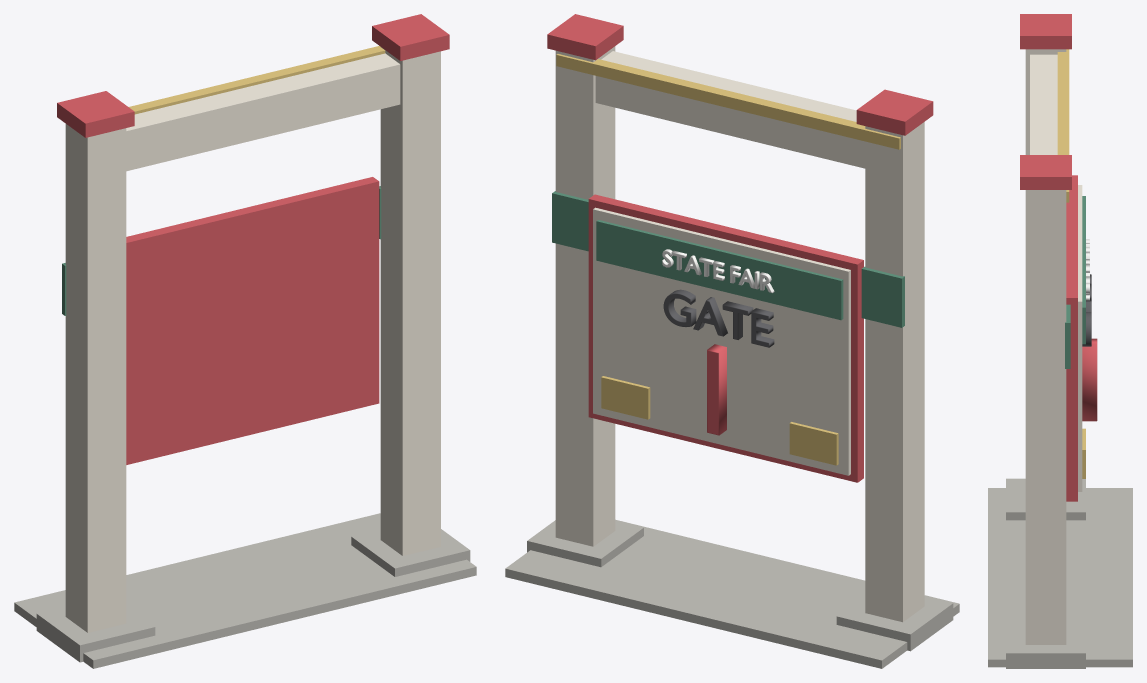
The model's file is state-fair-gate-01.glb.
3 renders of one model, left to right at view 1: azimuth 30°, elevation 25°; view 2: azimuth 150°, elevation 25°; view 3: azimuth 270°, elevation 25°, orthographic. The views are drawn at different scales.
Parts seen in each view (by area): view 1: SFG_SignBack, SFG_PostL, SFG_PostR, SFG_Pad, SFG_HeaderBeam, SFG_FootingL, SFG_FootingR, SFG_PostCapL, SFG_PostCapR, SFG_HeaderAccent; view 2: SFG_SignFace, SFG_PostL, SFG_Pad, SFG_PostR, SFG_HeaderBeam, SFG_Ribbon, SFG_SignBack, SFG_HeaderAccent, SFG_FootingL, SFG_GateLabel, SFG_FootingR, SFG_PostCapL (+7 smaller); view 3: SFG_PostR, SFG_Pad, SFG_SignBack, SFG_FootingR, SFG_HeaderBeam, SFG_PostCapL, SFG_PostCapR, SFG_SignFace, SFG_HeaderAccent, SFG_FootingL, SFG_GateNumber, SFG_PostL (+4 smaller).
Boxes of the visible parts, x1,y1,x2,y2 form: SFG_SignBack: [126, 177, 379, 464]; SFG_PostL: [65, 124, 126, 632]; SFG_PostR: [380, 47, 440, 555]; SFG_Pad: [14, 513, 476, 668]; SFG_HeaderBeam: [126, 53, 400, 171]; SFG_FootingL: [36, 606, 155, 662]; SFG_FootingR: [351, 529, 470, 576]; SFG_PostCapL: [57, 91, 134, 137]; SFG_PostCapR: [372, 14, 449, 60]; SFG_HeaderAccent: [129, 46, 385, 114]; SFG_SignFace: [593, 207, 850, 475]; SFG_PostL: [865, 122, 924, 622]; SFG_Pad: [505, 519, 959, 668]; SFG_PostR: [555, 46, 615, 546]; SFG_HeaderBeam: [595, 51, 865, 168]; SFG_Ribbon: [596, 220, 843, 320]; SFG_SignBack: [588, 194, 863, 482]; SFG_HeaderAccent: [556, 54, 900, 149]; SFG_FootingL: [836, 596, 953, 651]; SFG_GateLabel: [663, 289, 774, 347]; SFG_FootingR: [527, 520, 643, 567]; SFG_PostCapL: [856, 89, 933, 135]; SFG_PostR: [1025, 190, 1066, 644]; SFG_Pad: [988, 488, 1132, 667]; SFG_SignBack: [1066, 175, 1077, 501]; SFG_FootingR: [1006, 619, 1085, 668]; SFG_HeaderBeam: [1030, 54, 1057, 154]; SFG_PostCapL: [1020, 14, 1071, 49]; SFG_PostCapR: [1020, 155, 1071, 189]; SFG_SignFace: [1078, 185, 1082, 491]; SFG_HeaderAccent: [1057, 49, 1069, 202]; SFG_FootingL: [1006, 478, 1085, 520]; SFG_GateNumber: [1082, 338, 1097, 421]; SFG_PostL: [1025, 49, 1066, 154].
Size of the model in its own units: 2.85 by 3.7 by 1.
